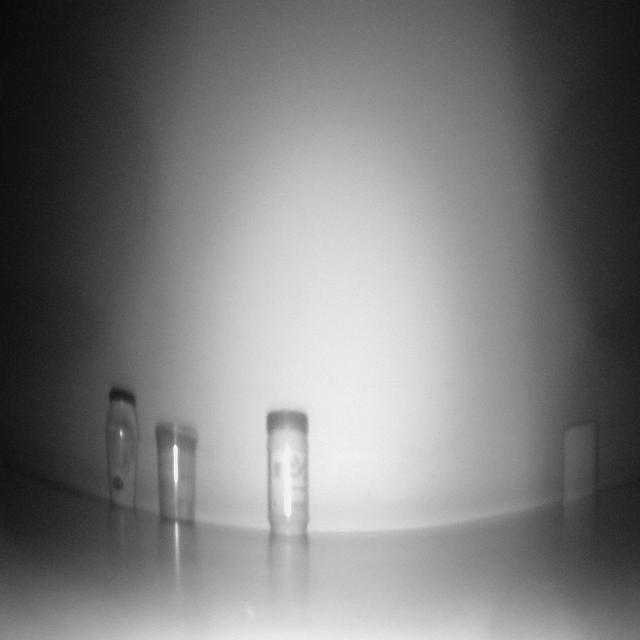targets: (265, 408, 310, 534), (154, 423, 199, 525), (105, 382, 139, 510)
